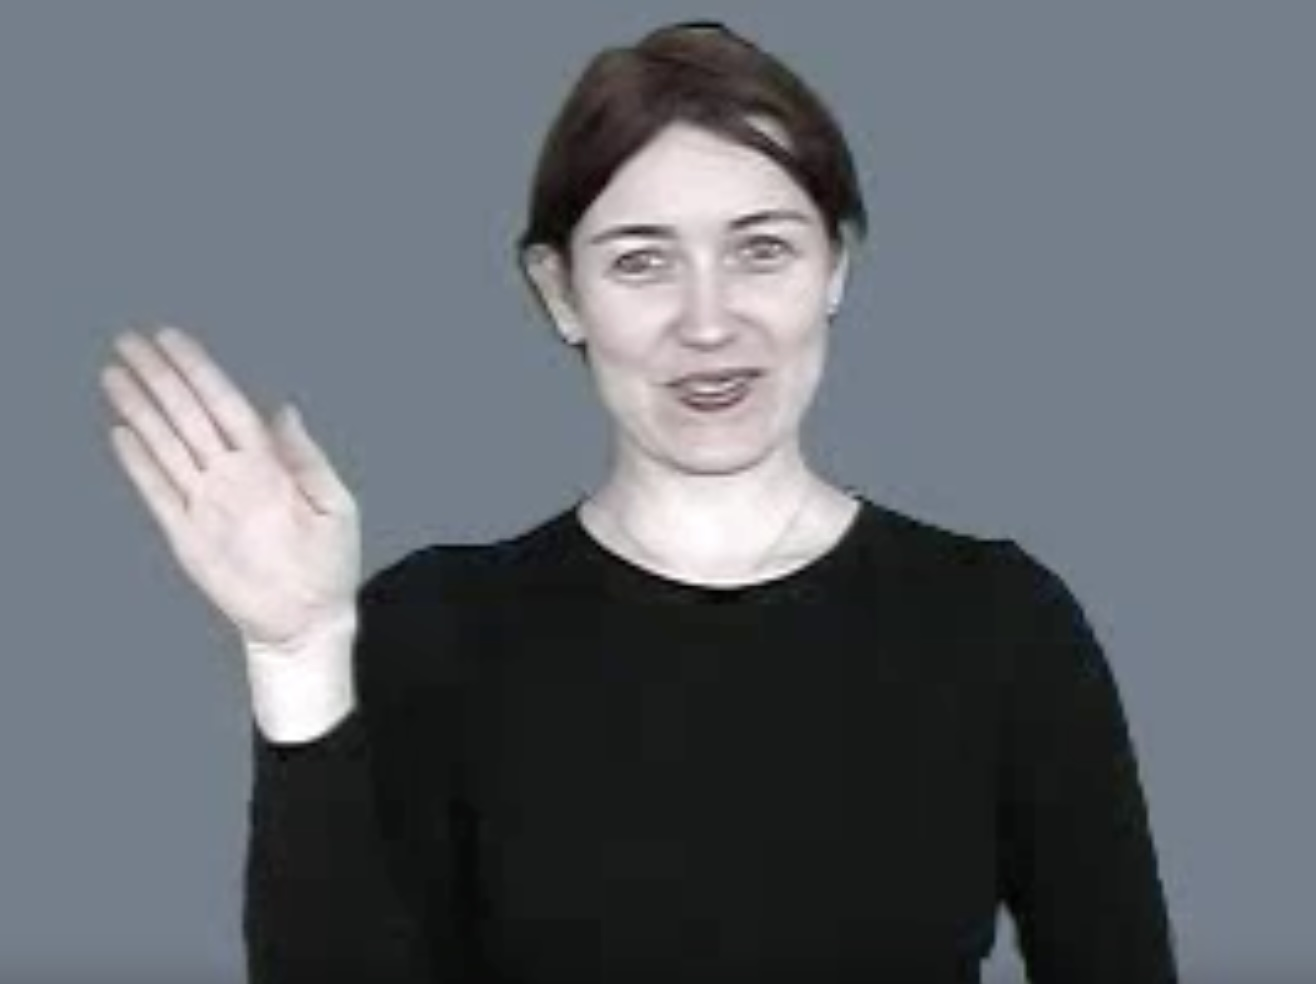hello: (88, 317, 398, 643)
